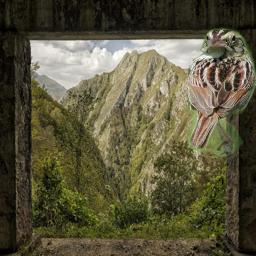Sparrow: (188, 28, 256, 158)
